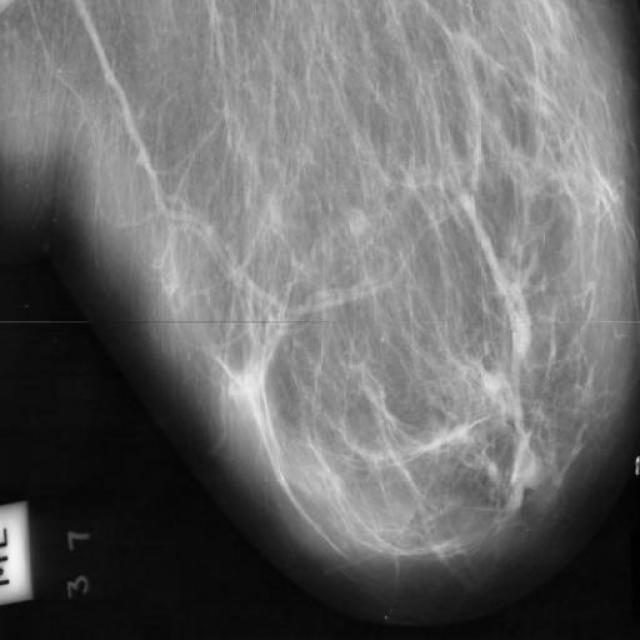cancer: (488, 244, 558, 338)
